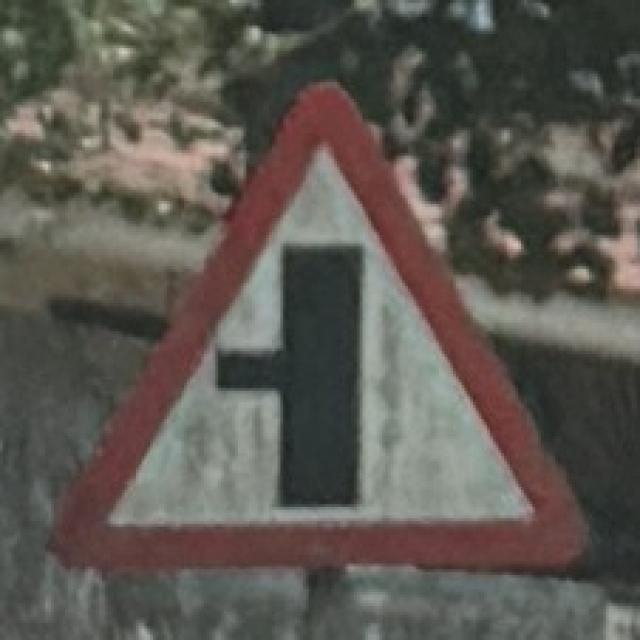SIDE_ROAD_LEFT: (30, 62, 594, 580)
